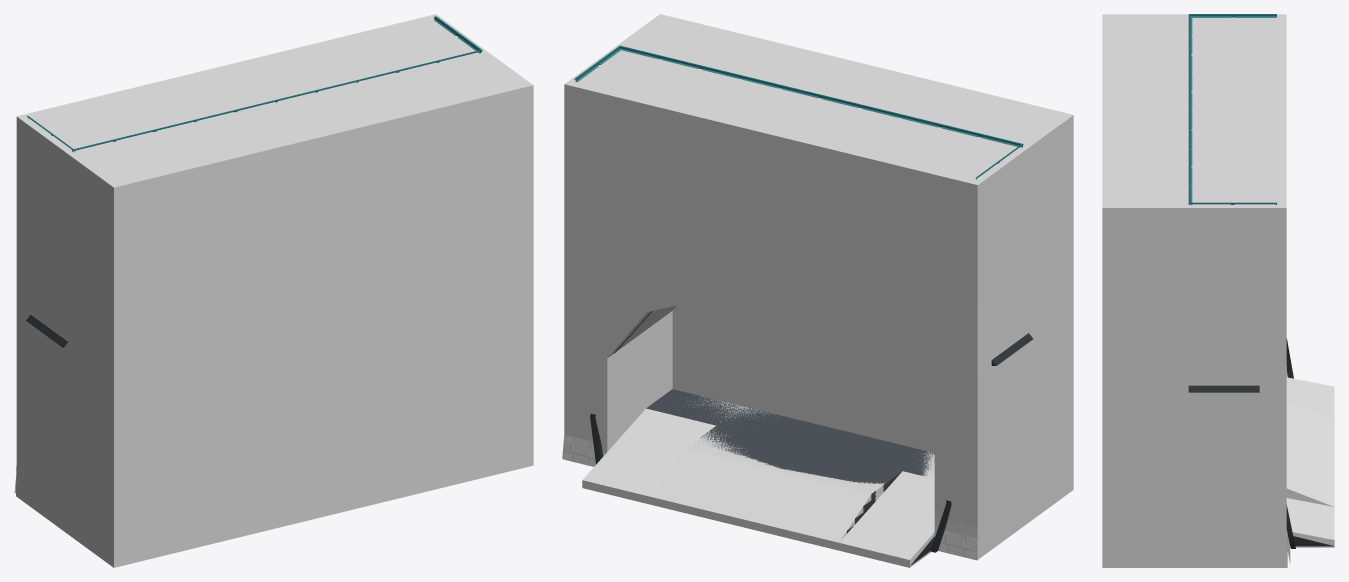
File: squidgame_props_entrance1.fbx
3 renders of one model, left to right at view 1: azimuth 30°, elevation 25°; view 2: azimuth 150°, elevation 25°; view 3: azimuth 270°, elevation 25°, orthographic. The views are drawn at different scales.
Parts seen in each view (by area): view 1: squidgame_props_entrance1_col, squidgame_props_entrance1; view 2: squidgame_props_entrance1_col, squidgame_props_entrance1; view 3: squidgame_props_entrance1_col, squidgame_props_entrance1.
Part boxes in pixels (x1,y1,x2,y2): squidgame_props_entrance1_col: [16, 14, 533, 567]; squidgame_props_entrance1: [14, 16, 482, 493]; squidgame_props_entrance1_col: [564, 14, 1073, 567]; squidgame_props_entrance1: [562, 45, 1032, 565]; squidgame_props_entrance1_col: [1102, 14, 1334, 567]; squidgame_props_entrance1: [1188, 14, 1334, 564].
Bounding box in the file's own units: 10.61 × 9.04 × 5.26.
